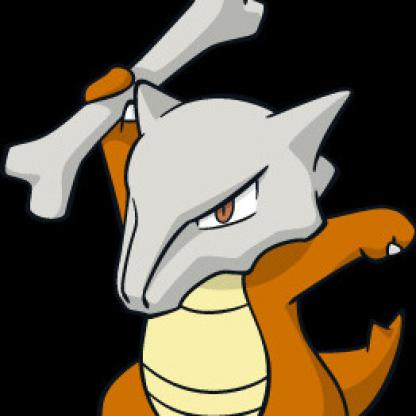Marowak: (7, 1, 413, 416)
